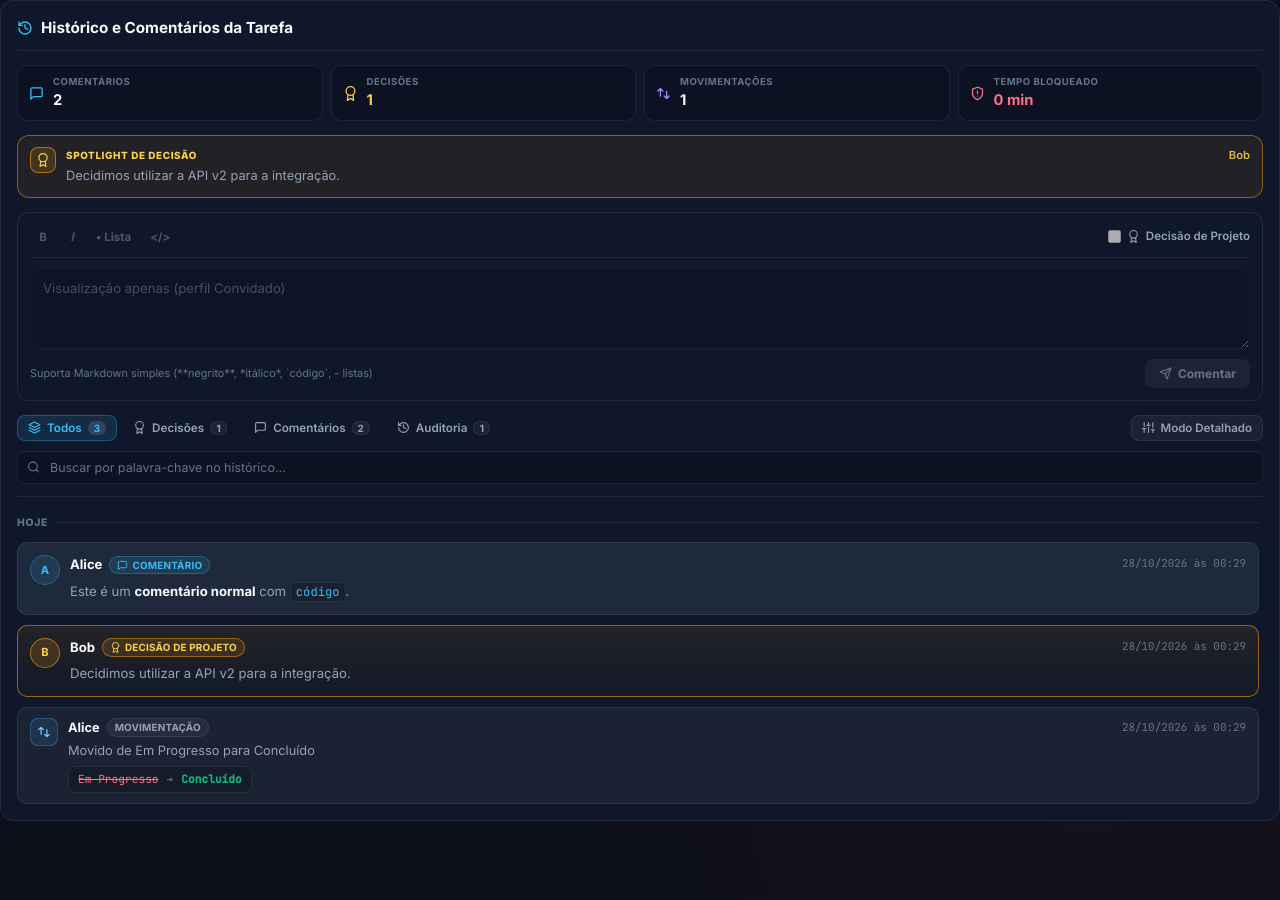
Test: TaskTimeline - Feature 035 Suite › TaskTimeline Filtering & Search (FR-007, FR-008) › filters timeline items by text search input
Type "API v2" into the field with test id "timeline-search-input" at (640, 467), box [17, 451, 1263, 484]
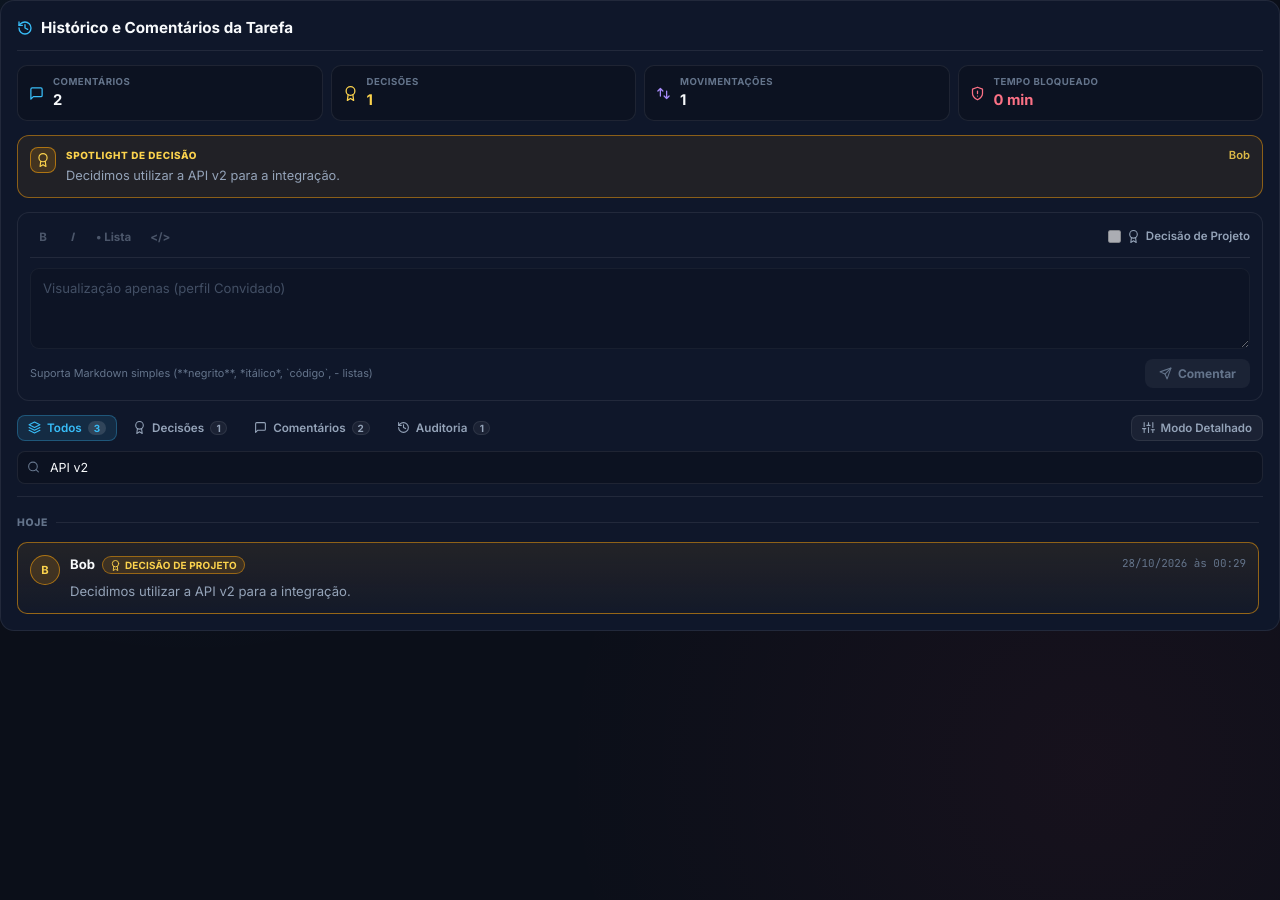
expect the text "Decidimos utilizar a API v2 para a integração." below "Spotlight de Decisão" is shown: met, box [66, 168, 340, 183]
expect the text "Este é um comentário normal" is gone: met
